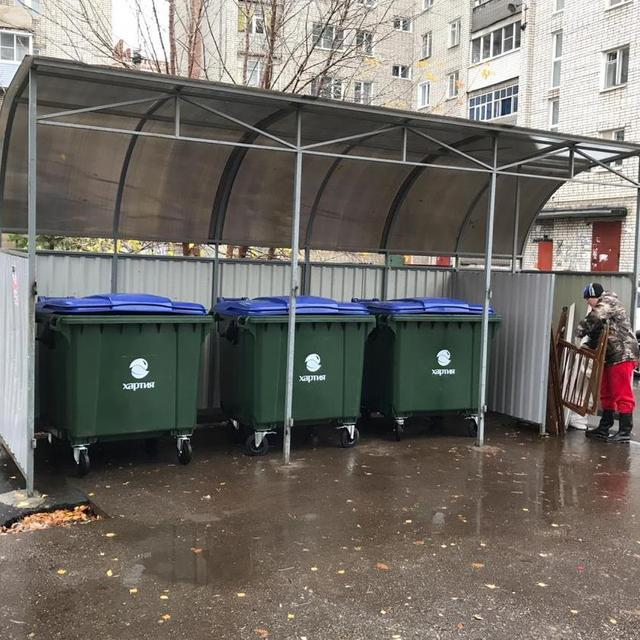Trash_Can_Closed: (36, 292, 214, 444), (212, 295, 375, 429), (369, 297, 501, 418)
